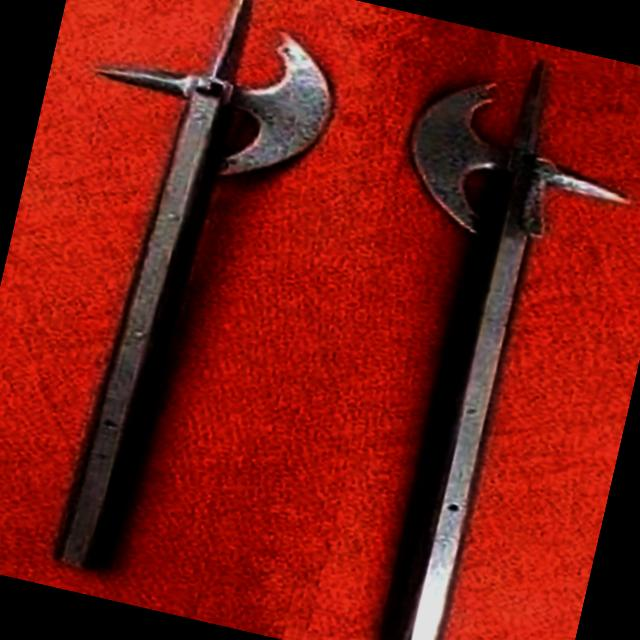ax: (0, 0, 371, 620), (279, 21, 640, 640)
